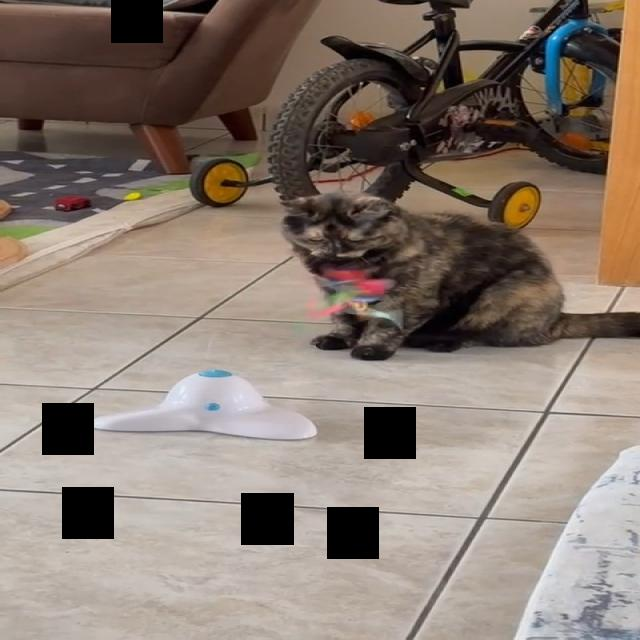authorized: (277, 190, 639, 361)
